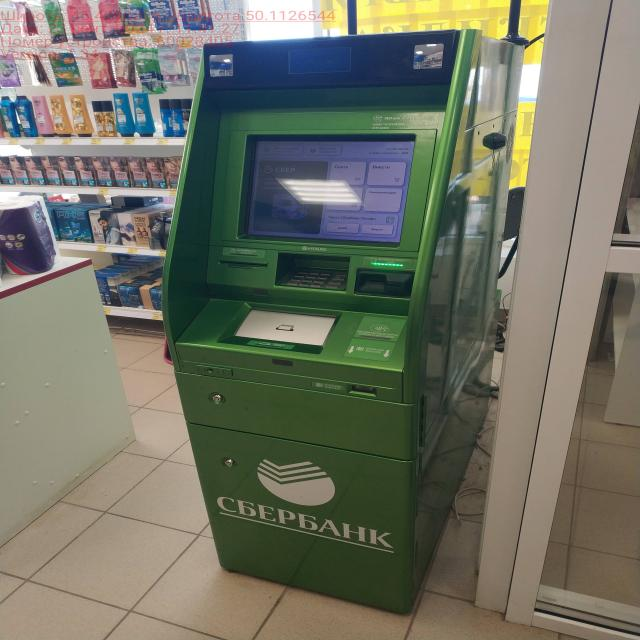bank: (171, 29, 521, 617)
